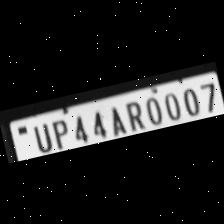0: (139, 91, 166, 127), (177, 84, 202, 118), (160, 88, 184, 122)
4: (84, 104, 110, 139), (66, 108, 91, 144)
7: (195, 78, 222, 114)
A: (102, 101, 127, 136)
P: (46, 114, 72, 151)
R: (120, 96, 146, 133)
U: (28, 118, 54, 153)
